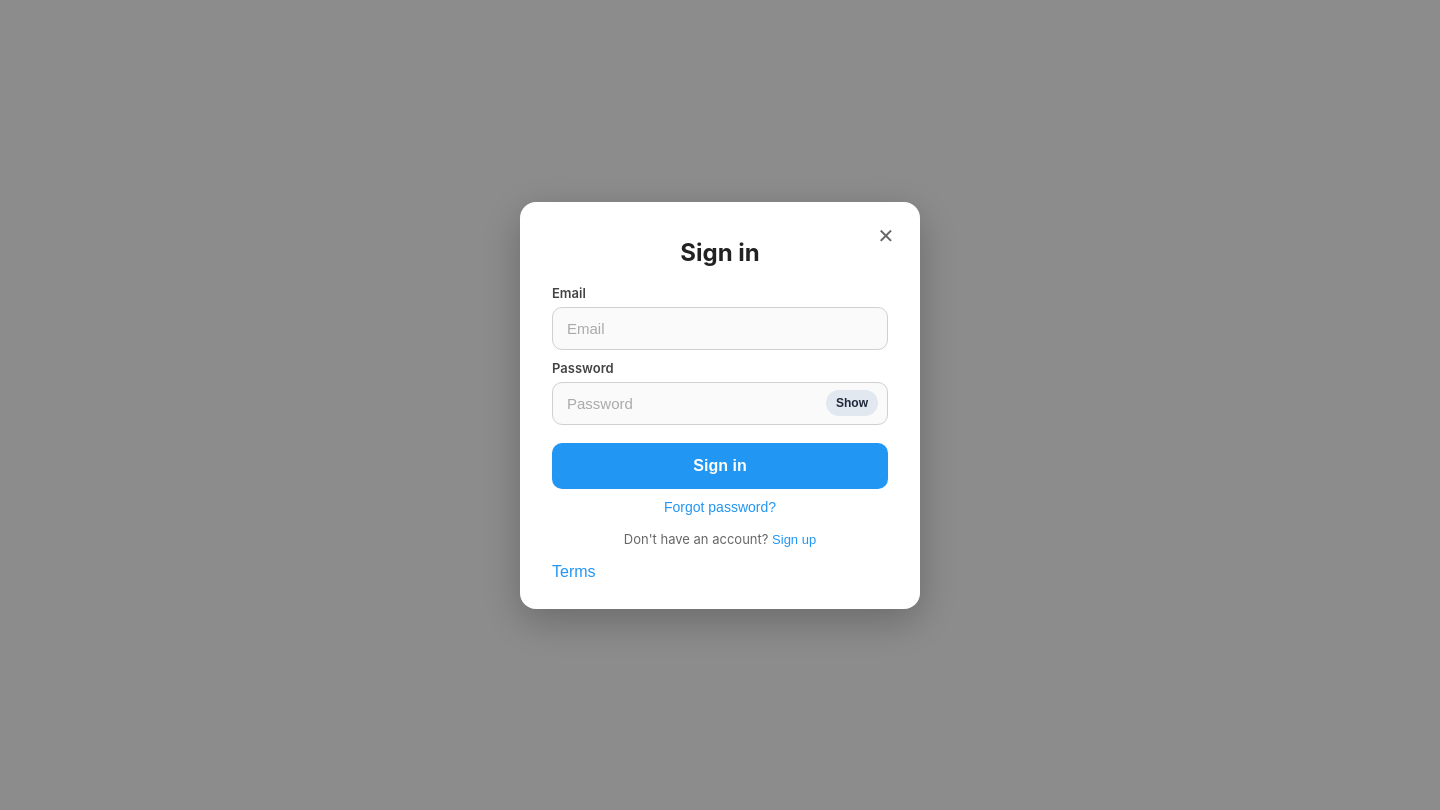
Test: SignIn Component › disables form while submitting
The image size is (1440, 810).
Step 1. Type "john@example.com" into the field labelled "Email" → (720, 328), box [552,306,888,350]
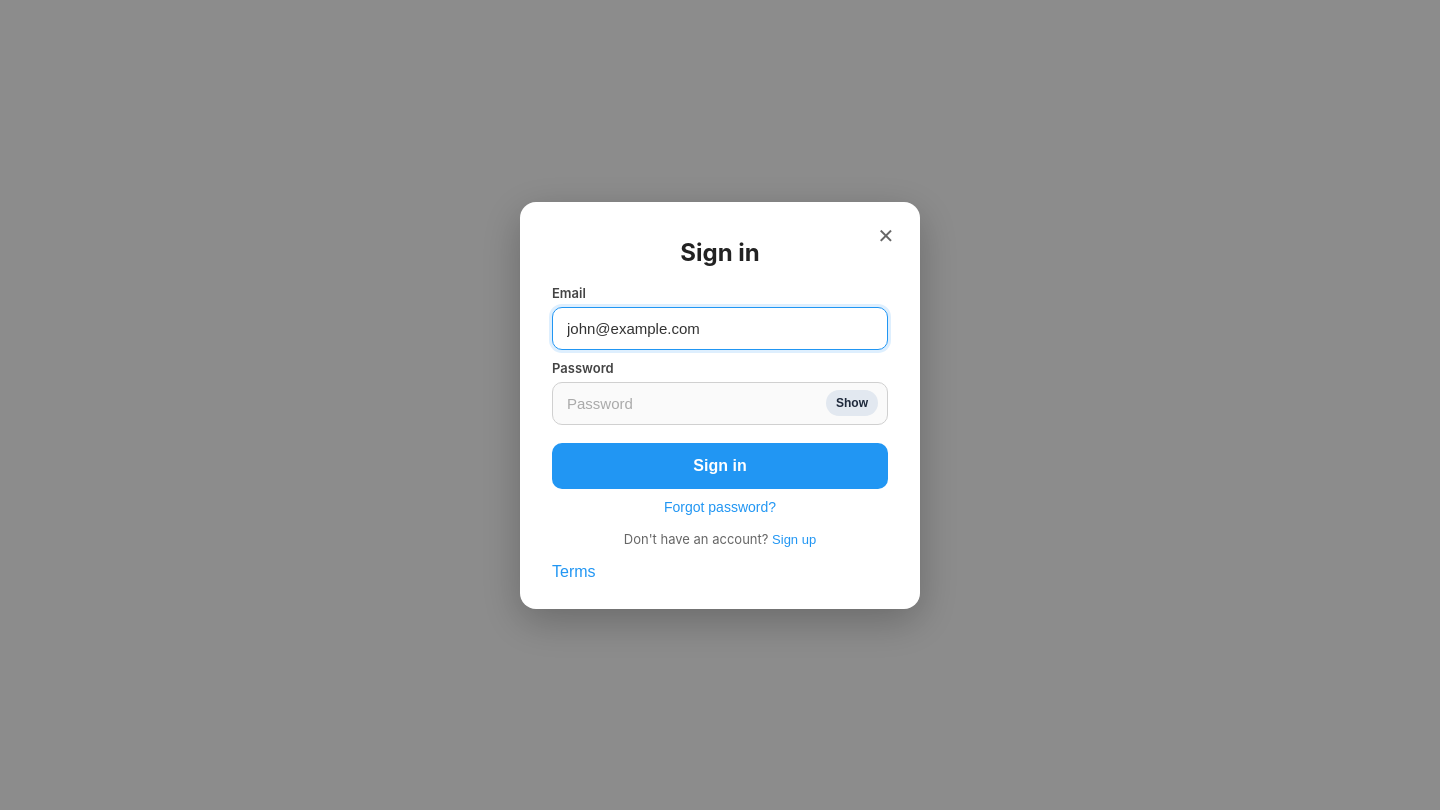
Step 2. Type "StrongPass1!" into the password field labelled "Password" → (720, 403), box [552,382,888,424]
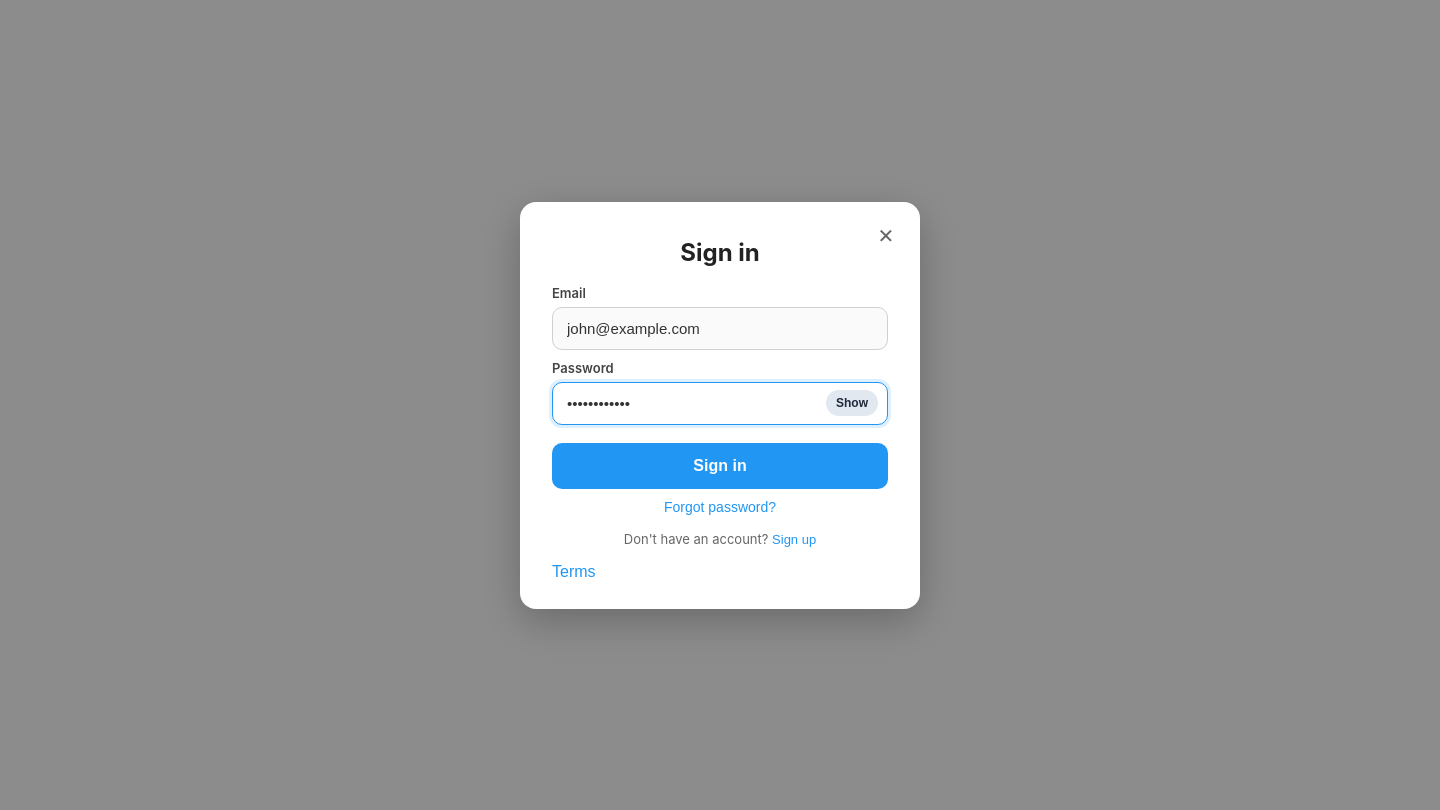
Step 3. Click the button "Sign in" → (720, 466), box [552,442,888,488]
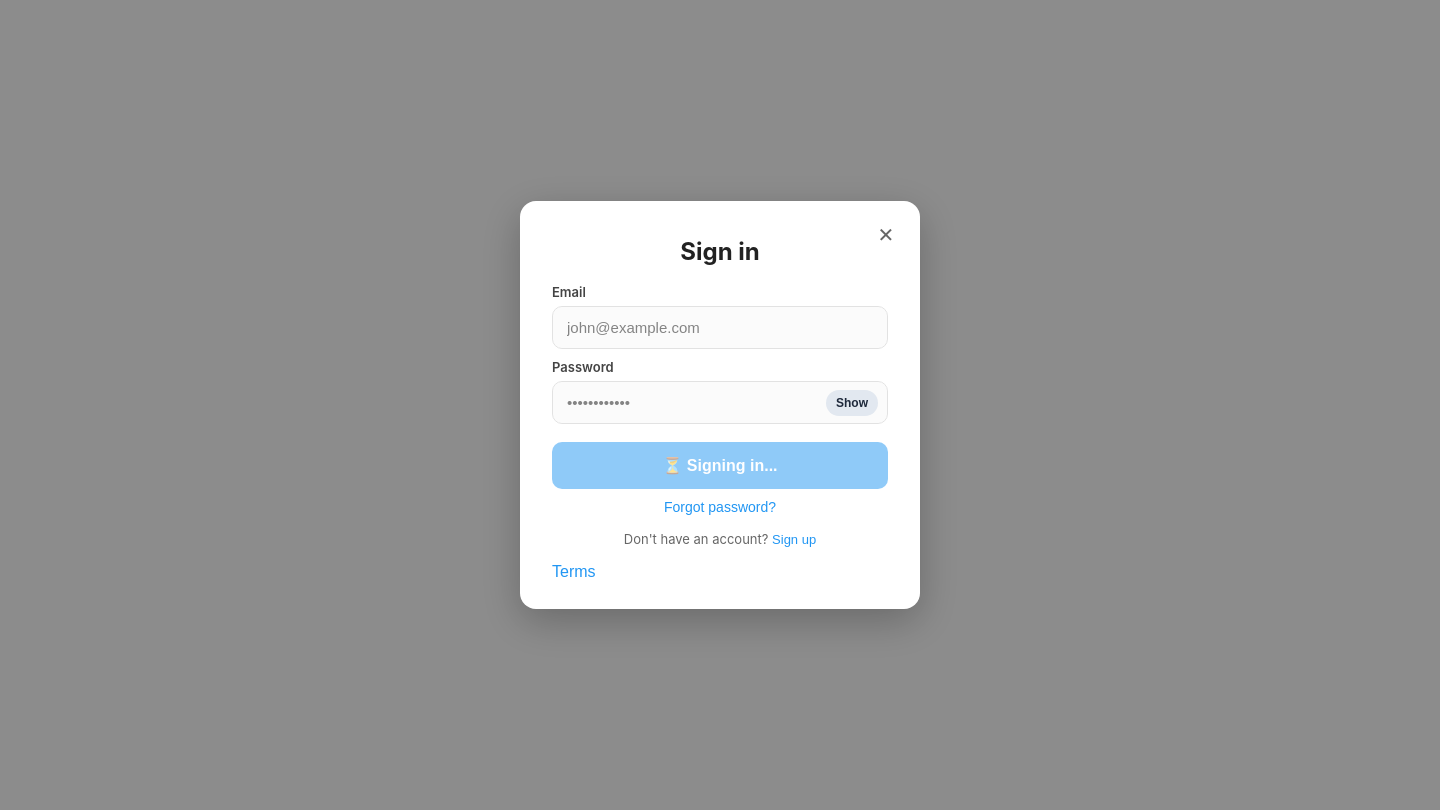
expect the field labelled "Email" is disabled: met, box [552,306,888,349]
expect the password field labelled "Password" is disabled: met, box [552,381,888,424]
expect the button "⏳ Signing in..." is shown: met, box [552,442,888,489]
